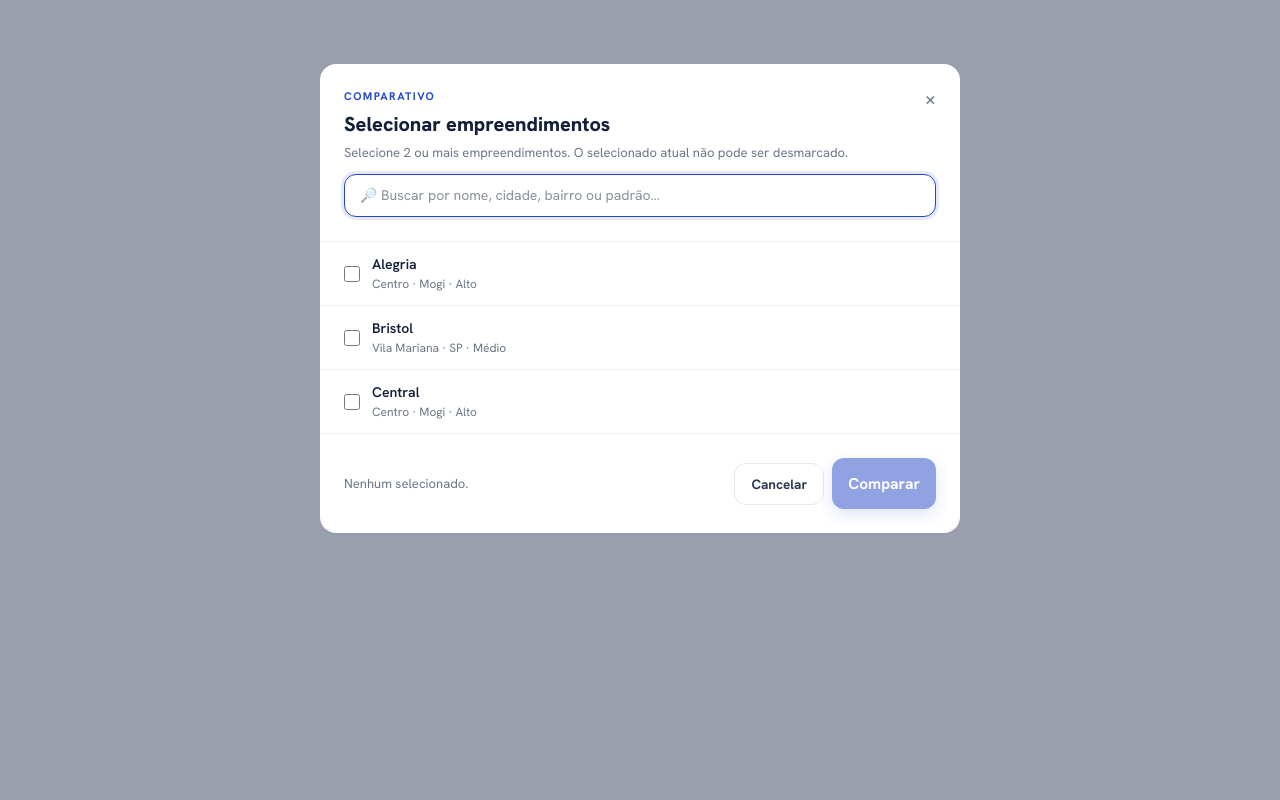
Test case: <ModalSelecionarEmpreendimentos /> › filtra por busca (nome/cidade/bairro/padrão)
The image size is (1280, 800).
Type "Vila Mariana" into the field with placeholder "🔎 Buscar por nome, cidade, bairro ou padrão…" at coordinates (640, 196), box [344,174,936,217]
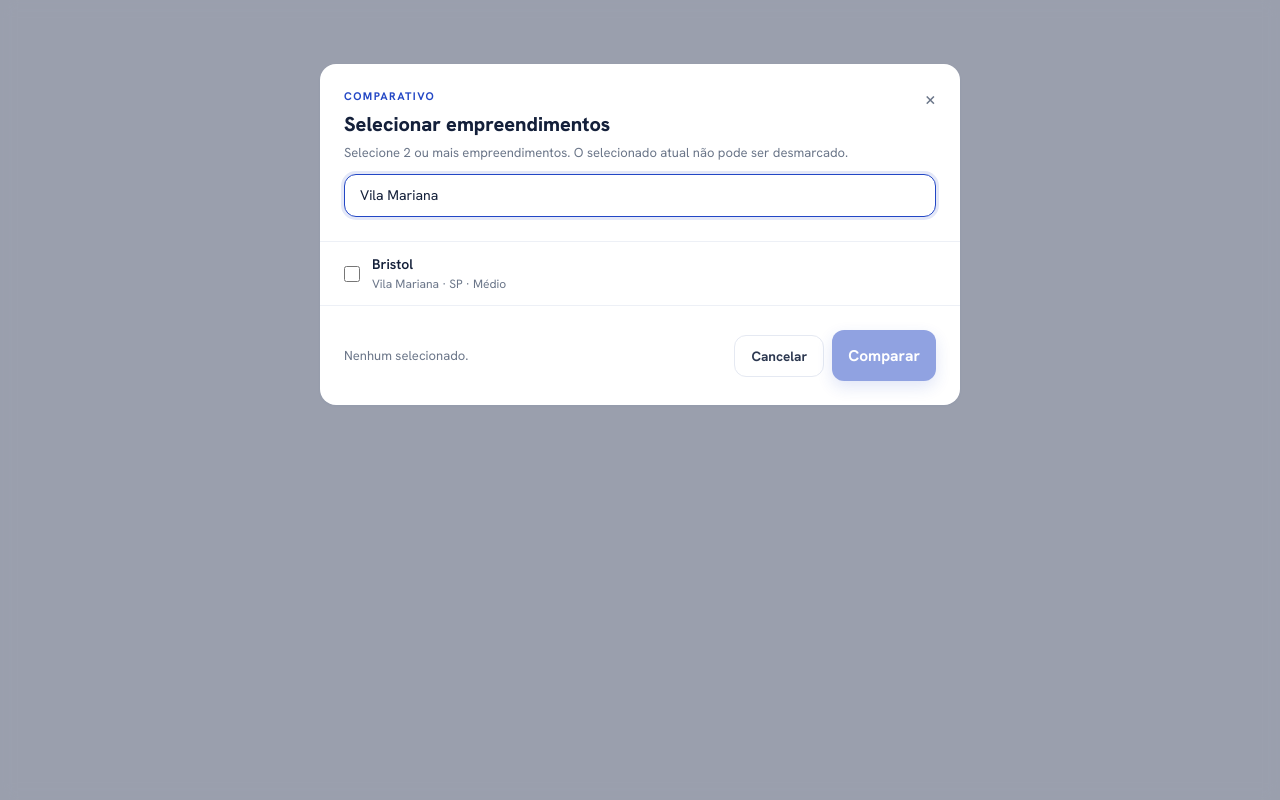
Expected: the text "Bristol" is shown, [372,255,413,273]
Now the button "Alegria" is gone
Now the button "Central" is gone
